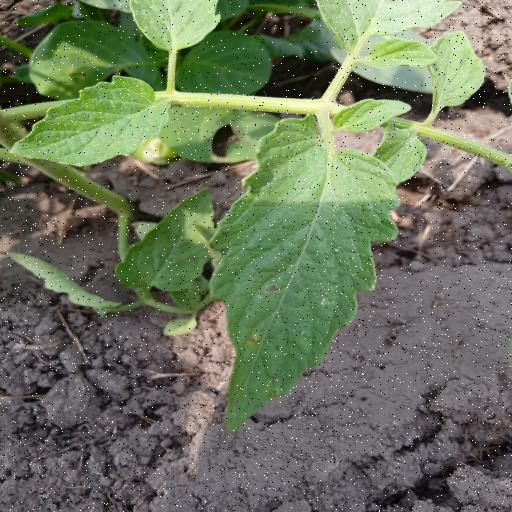Tomato_Mildiou: (214, 117, 405, 436)
